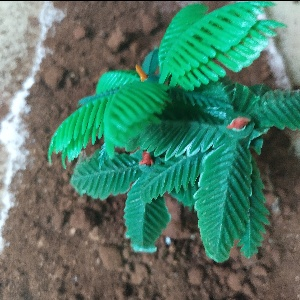plant: (46, 1, 300, 266)
